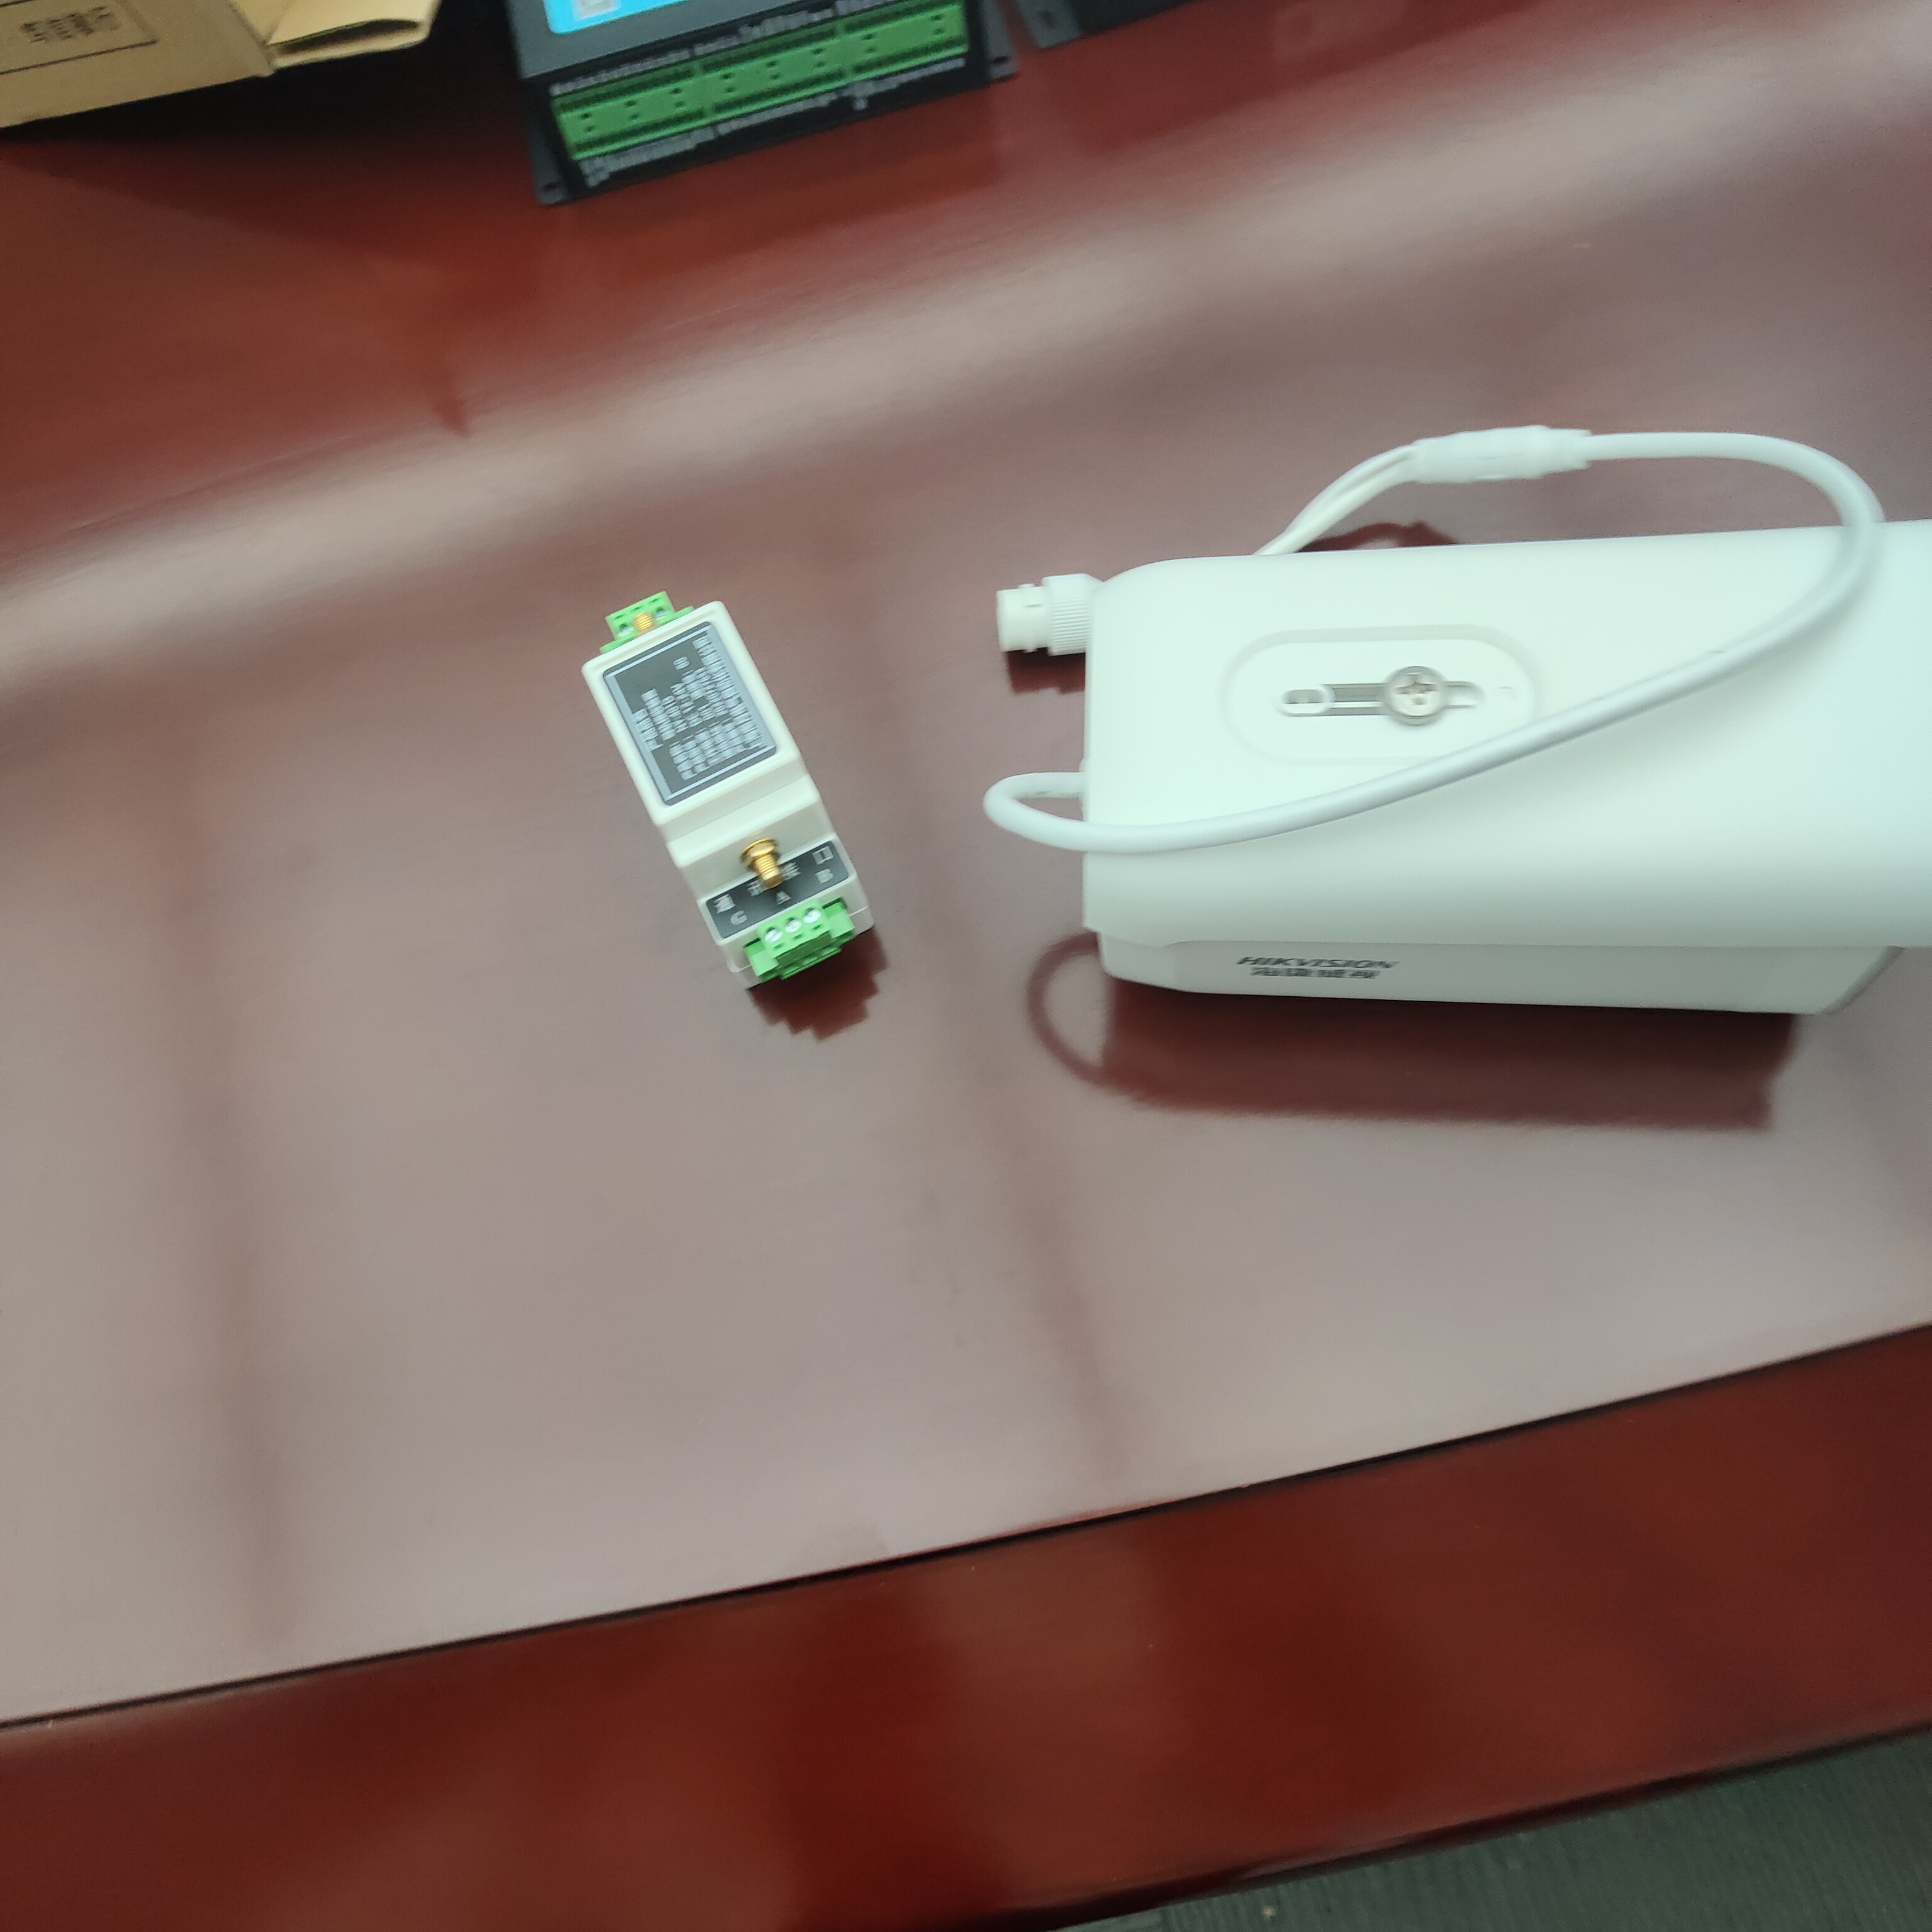dgjs: (577, 556, 893, 1030)
hkws: (1001, 451, 1932, 1108)
